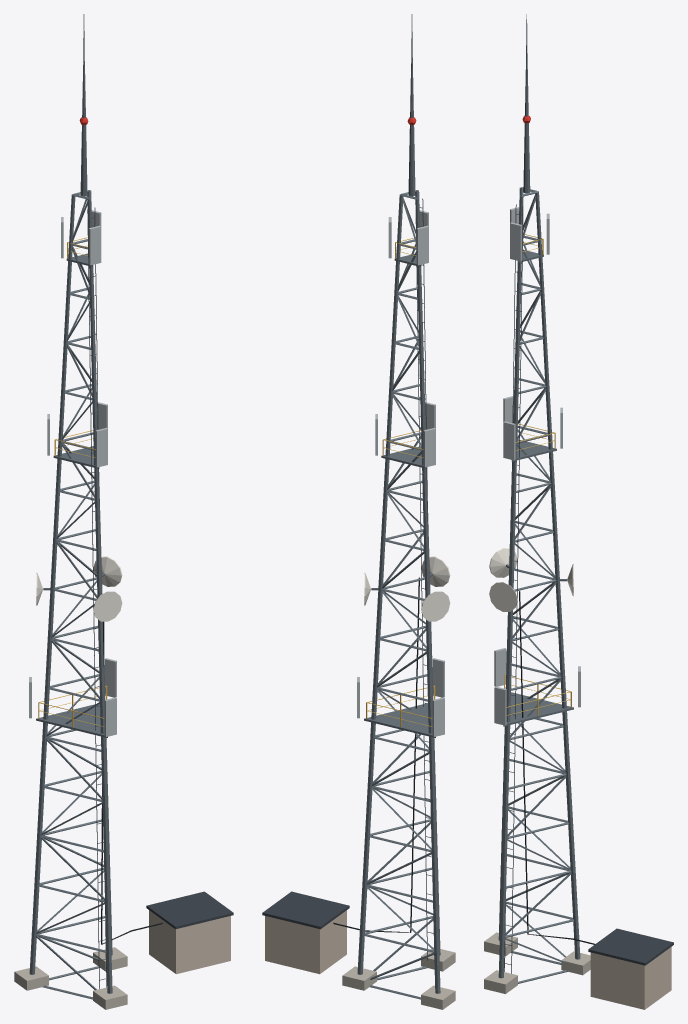
Rendered from RURAL_03.obj.
The picture shows the model from 3 angles, left to right: view 1: azimuth 30°, elevation 25°; view 2: azimuth 150°, elevation 25°; view 3: azimuth 330°, elevation 25°; orthographic projection.
Parts seen in each view (by area): view 1: mast_braces, mast, equipment_shelter, antenna_panels, platforms, footings, ladder, microwave_dishes, platform_rails, top_mast; view 2: mast_braces, mast, equipment_shelter, antenna_panels, platforms, footings, microwave_dishes, ladder, cable_run, platform_rails, top_mast; view 3: mast_braces, mast, equipment_shelter, antenna_panels, platforms, footings, ladder, microwave_dishes, cable_run, platform_rails, top_mast.
Boxes of the visible parts, x1,y1,x2,y2 form: mast_braces: (36,190,106,999); mast: (29,190,112,993); equipment_shelter: (146,891,233,974); antenna_panels: (29,210,116,736); platforms: (36,253,107,737); footings: (14,947,127,1009); ladder: (87,207,106,988); microwave_dishes: (36,556,122,621); platform_rails: (38,237,107,726); top_mast: (80,63,87,196); mast_braces: (364,190,434,999); mast: (357,190,440,993); equipment_shelter: (262,891,349,974); antenna_panels: (357,210,444,736); platforms: (364,253,435,737); footings: (342,947,455,1009); microwave_dishes: (364,556,450,621); ladder: (415,198,434,960); cable_run: (333,577,419,932); platform_rails: (366,237,435,726); top_mast: (408,63,415,196); mast_braces: (505,187,573,983); mast: (498,187,580,978); equipment_shelter: (588,928,673,1009); antenna_panels: (494,207,580,725); platforms: (503,250,573,726); footings: (484,932,590,993); ladder: (504,204,523,973); microwave_dishes: (489,548,573,611); cable_run: (519,591,594,944); platform_rails: (504,234,571,715); top_mast: (523,63,530,193).
Bounding box in the file's own units: 11.8 × 59.08 × 5.73.
